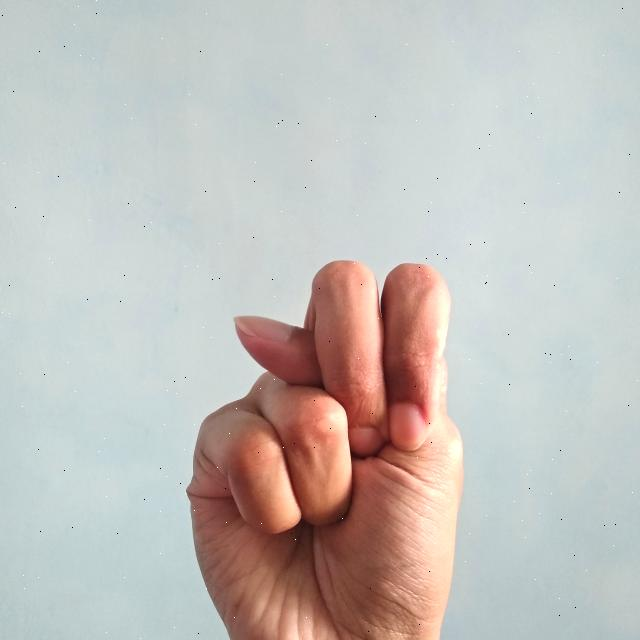N: (173, 254, 477, 640)
